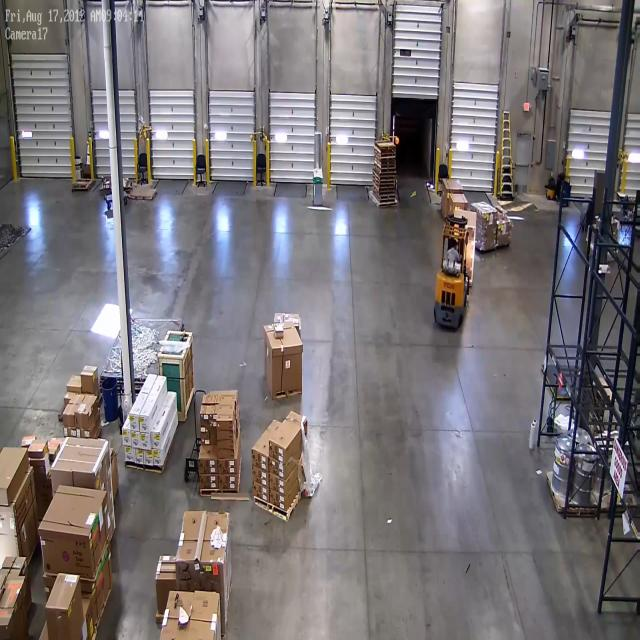human: (445, 238, 460, 280)
product 1: (36, 475, 104, 574), (174, 504, 230, 590), (159, 587, 224, 640), (260, 322, 304, 400), (49, 432, 110, 483), (454, 209, 476, 284), (477, 222, 498, 253), (471, 200, 496, 226), (273, 310, 301, 332), (497, 220, 514, 253), (442, 176, 463, 194), (448, 196, 467, 209)
product 2: (274, 326, 284, 342)
product 3: (150, 431, 162, 450), (121, 428, 132, 448), (129, 412, 140, 431), (124, 447, 135, 466), (132, 432, 142, 449), (140, 416, 150, 432), (144, 452, 154, 468), (136, 450, 144, 468), (142, 434, 150, 450), (154, 451, 162, 464)
product 4: (80, 359, 98, 402), (77, 396, 96, 433), (62, 398, 74, 436), (26, 438, 46, 460), (270, 487, 288, 511), (251, 447, 269, 471), (268, 456, 288, 476), (217, 473, 238, 491), (268, 439, 284, 462), (252, 480, 269, 501), (269, 472, 286, 492), (67, 372, 80, 398), (217, 458, 238, 474), (198, 457, 216, 475), (198, 475, 219, 490), (252, 465, 268, 484), (21, 432, 37, 451), (219, 391, 236, 408), (216, 416, 233, 431), (495, 202, 509, 220), (203, 391, 217, 407), (216, 431, 240, 440), (198, 426, 212, 441), (216, 442, 236, 452), (198, 403, 208, 421), (217, 405, 235, 415), (209, 416, 217, 425)
product 5: (45, 565, 80, 640), (1, 507, 32, 560), (0, 442, 27, 501), (1, 576, 22, 640), (0, 551, 29, 585), (155, 553, 178, 590)
